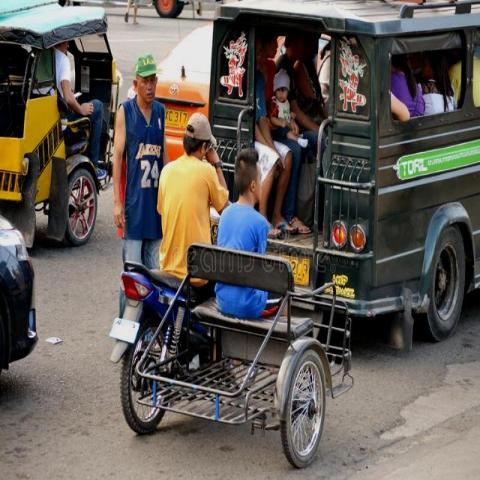jeepney: (212, 1, 480, 346)
